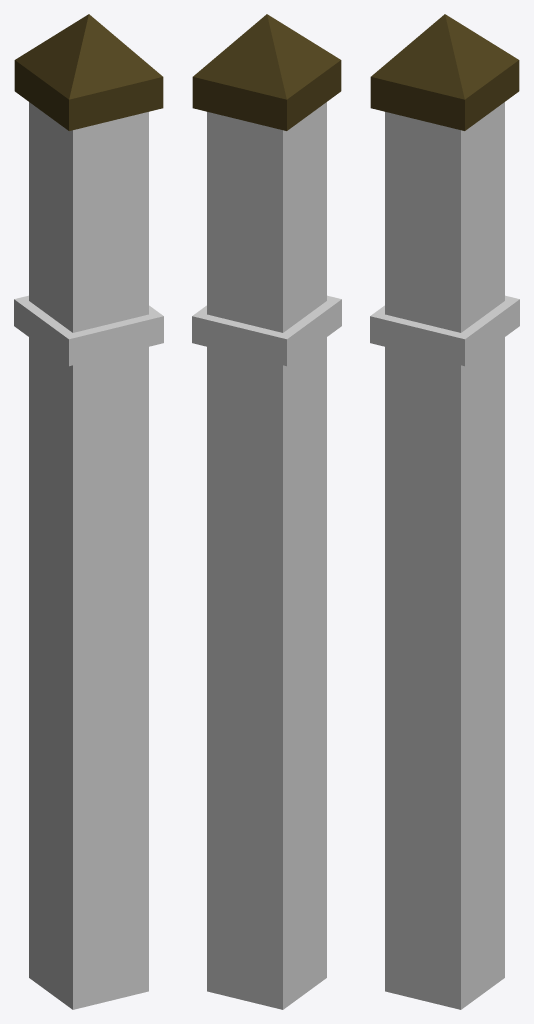
Rendered from Wall2.fbx.
3 renders of one model, left to right at view 1: azimuth 30°, elevation 25°; view 2: azimuth 150°, elevation 25°; view 3: azimuth 330°, elevation 25°, orthographic.
Parts seen in each view (by area): view 1: Cube.004, Cone; view 2: Cube.004, Cone; view 3: Cube.004, Cone.
Boxes of the visible parts, box(x1,y1,x2,y2) form: Cube.004: box(14, 102, 163, 1009); Cone: box(14, 14, 163, 130); Cube.004: box(192, 102, 341, 1009); Cone: box(192, 14, 341, 130); Cube.004: box(370, 102, 519, 1009); Cone: box(370, 14, 519, 130).
Size of the model in its own units: 50 by 488 by 50.
